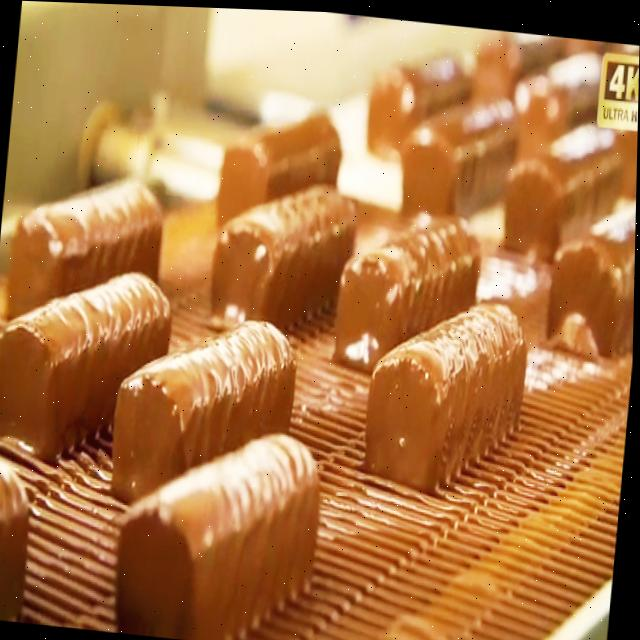Choco: (110, 411, 329, 640), (107, 299, 303, 514), (359, 280, 535, 498), (0, 252, 177, 468), (4, 160, 170, 332), (331, 195, 487, 377), (207, 166, 361, 331), (213, 92, 348, 234), (500, 128, 627, 259), (530, 195, 637, 350), (396, 92, 525, 217), (366, 30, 478, 161), (504, 48, 619, 133)
